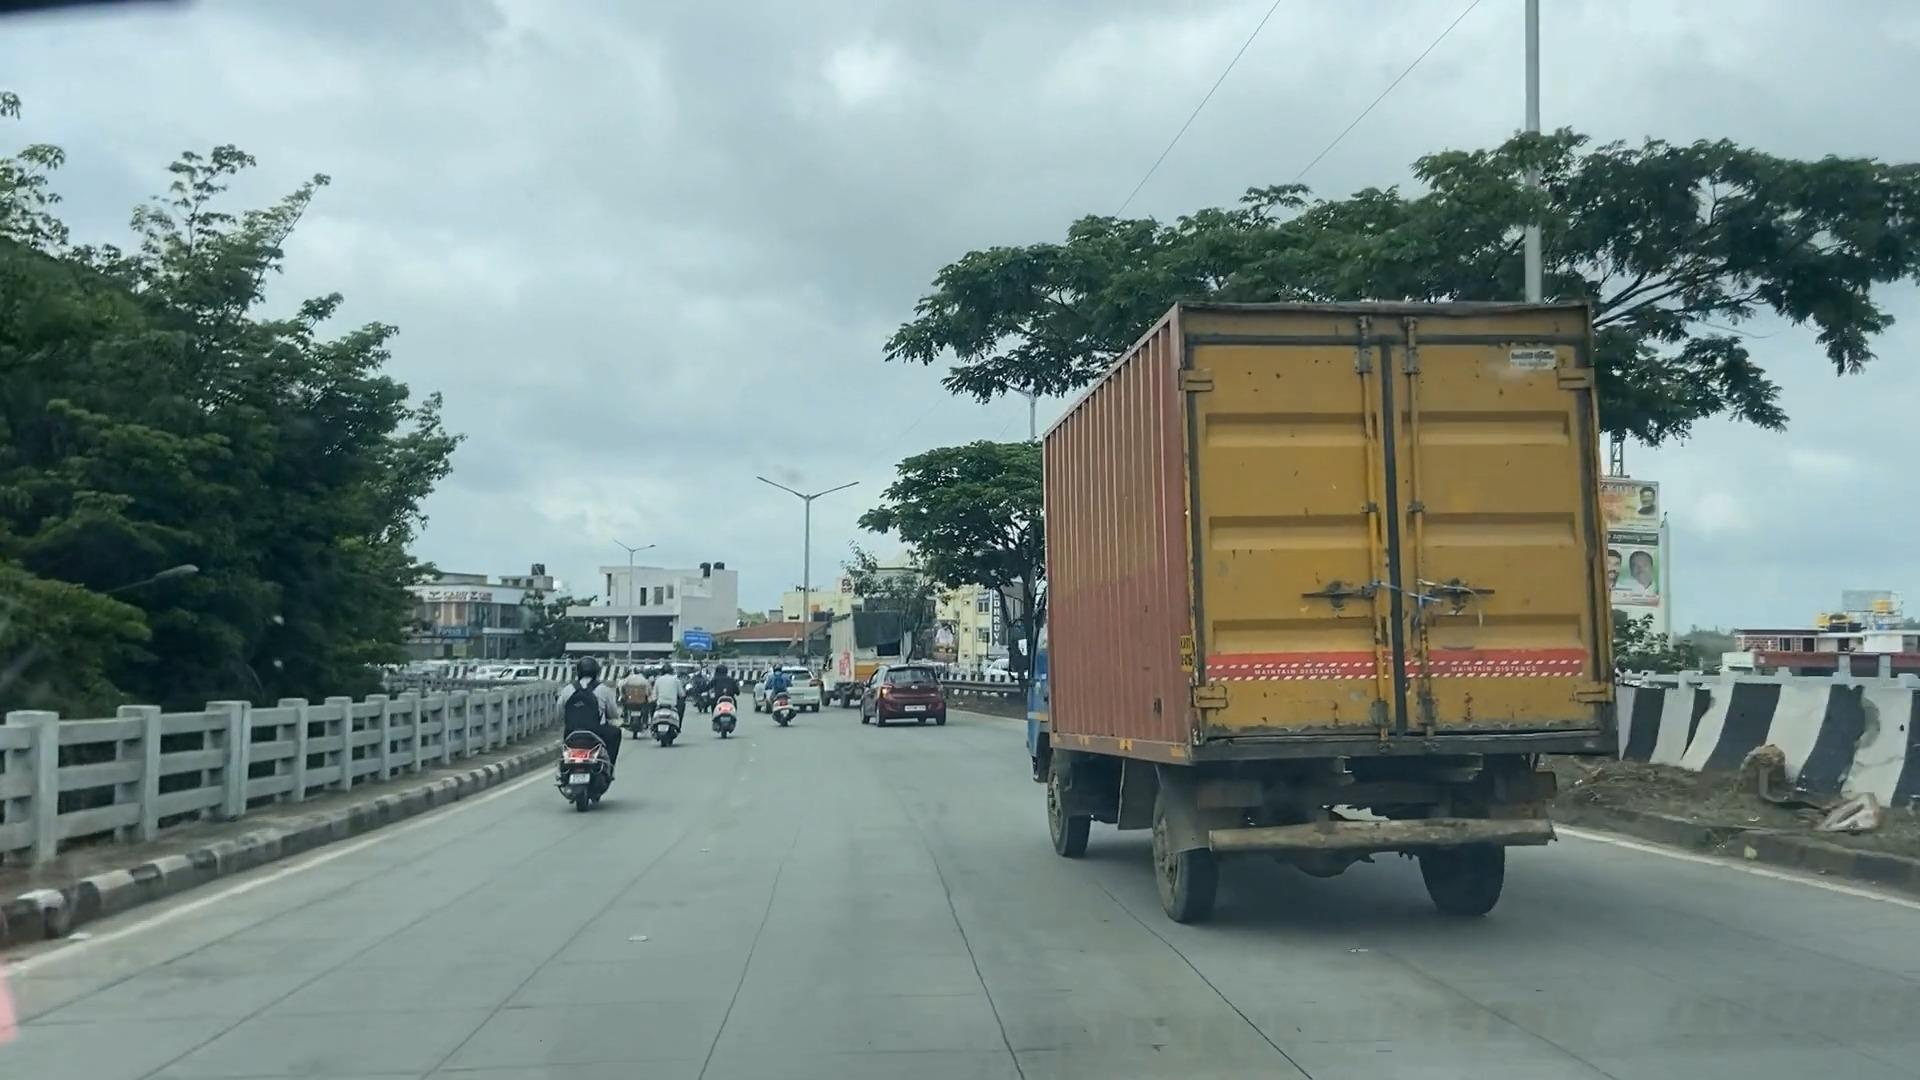HMV: (1073, 295, 1655, 957)
LMV: (546, 665, 622, 815), (872, 654, 951, 740), (704, 636, 756, 748), (646, 658, 700, 757), (771, 644, 798, 737)
